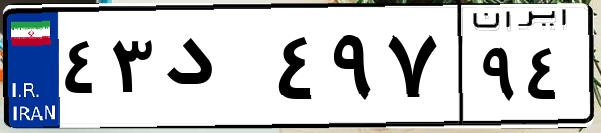3: (110, 28, 158, 98)
4: (270, 28, 330, 110), (57, 26, 110, 100), (525, 38, 570, 115)
7: (385, 28, 445, 110)
9: (330, 28, 385, 110), (475, 38, 525, 113)
د: (158, 20, 270, 120)
